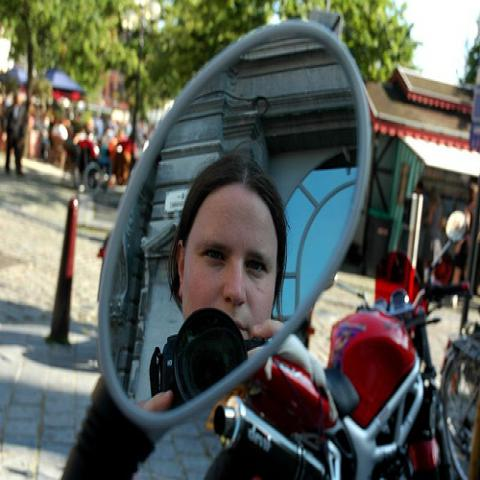motorcycle: (62, 15, 371, 475), (203, 248, 476, 479)
